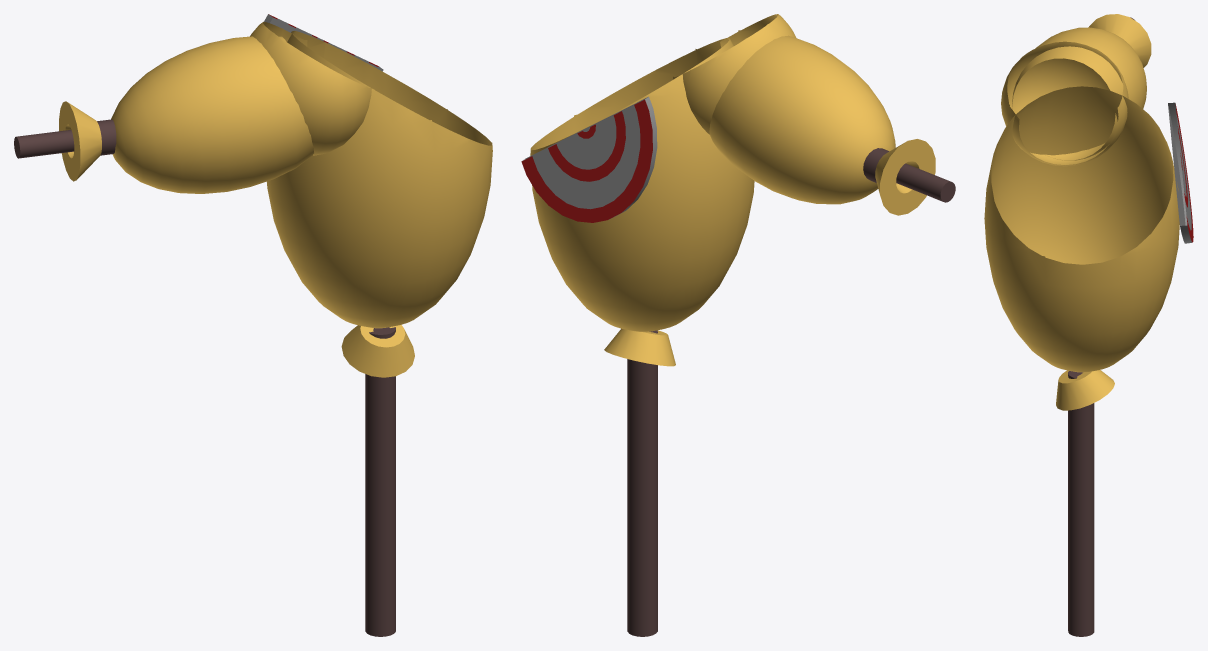
Rendered from pugalo_low.FBX.
3 views of the same model, side by side, from view 1: azimuth 30°, elevation 25°; view 2: azimuth 150°, elevation 25°; view 3: azimuth 270°, elevation 25° (orthographic). The views are drawn at different scales.
Parts seen in each view (by area): view 1: pugalo_low; view 2: pugalo_low; view 3: pugalo_low.
Boxes of the visible parts, box(x1,y1,x2,y2) form: pugalo_low: box(14, 14, 492, 636); pugalo_low: box(521, 14, 955, 636); pugalo_low: box(984, 14, 1193, 636).
Size of the model in its own units: 1.2 by 1.67 by 0.5855.
